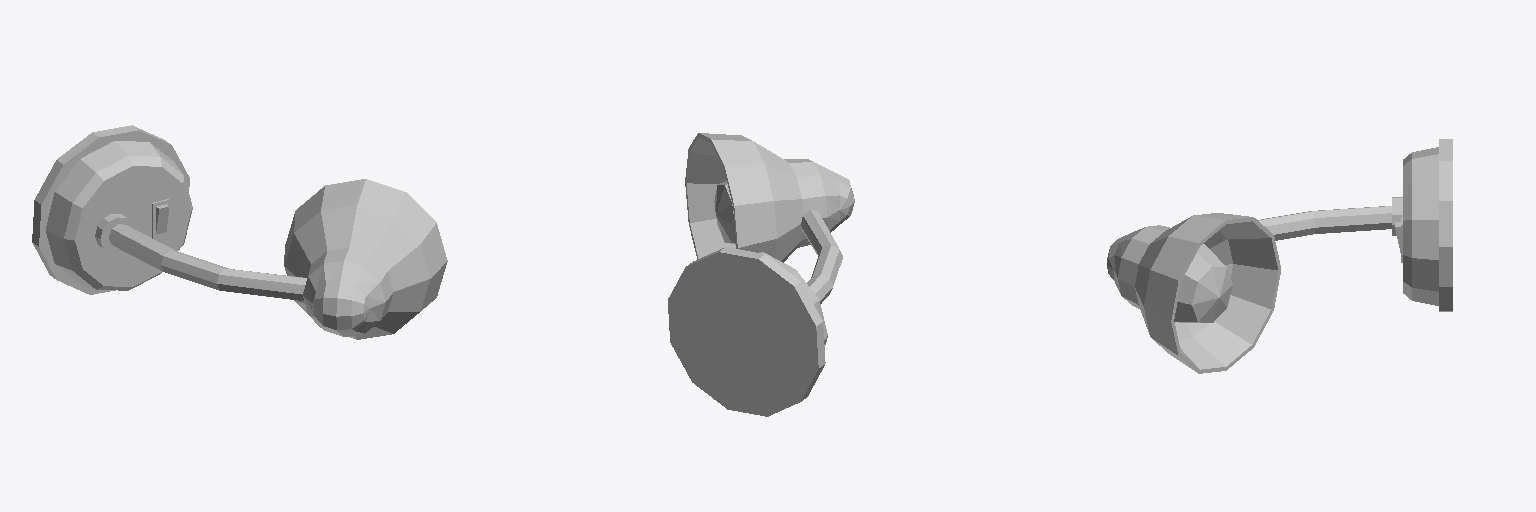
File: desklamp01.obj
3 renders of one model, left to right at view 1: azimuth 30°, elevation 25°; view 2: azimuth 150°, elevation 25°; view 3: azimuth 270°, elevation 25°, orthographic.
Visible parts, largest first — view 1: desklamp01; view 2: desklamp01; view 3: desklamp01.
Boxes of the visible parts, box(x1,y1,x2,y2) form: desklamp01: box(32, 125, 447, 339); desklamp01: box(668, 133, 854, 416); desklamp01: box(1107, 139, 1452, 373).
Bounding box in the file's own units: 16.5 × 9.07 × 18.03.